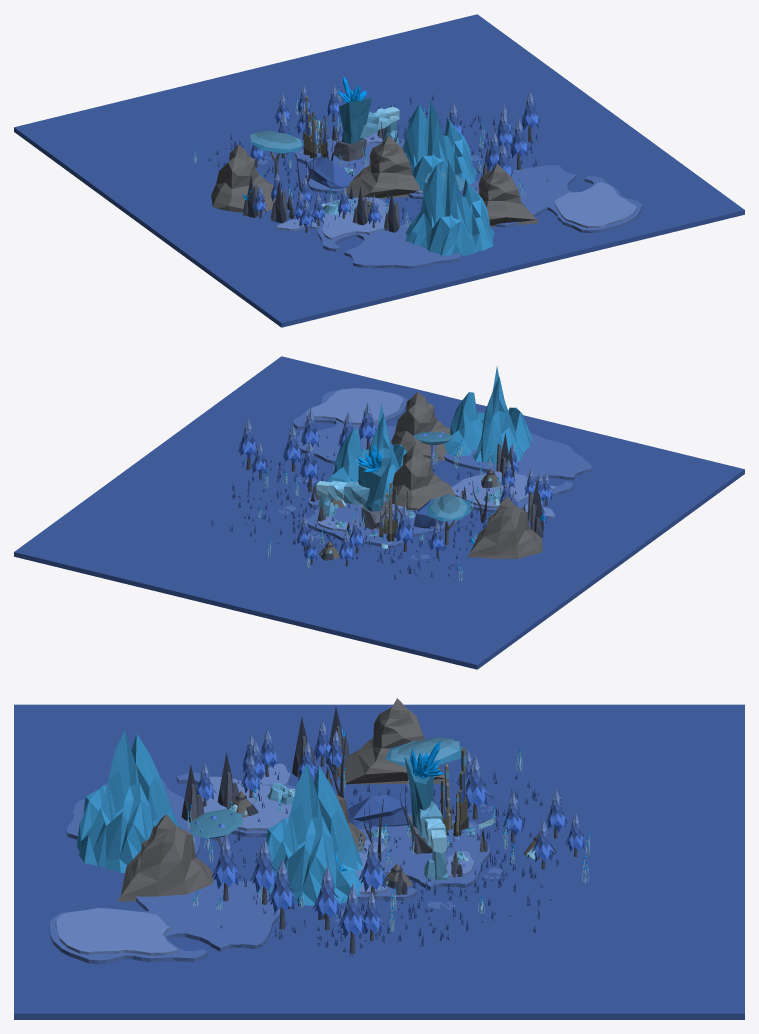
Rendered from Space_Forest.fbx.
3 renders of one model, top to bottom at view 1: azimuth 30°, elevation 25°; view 2: azimuth 150°, elevation 25°; view 3: azimuth 270°, elevation 25°, orthographic. The views are drawn at different scales.
Parts seen in each view (by area): view 1: Ground_1_9, Ground_2_1, Landscape_2_1, Tree_2_21, Ground_2_2, Landscape_2_2, Landscape_1_3, Rock_1, Landscape_1_2, Landscape_1_1, Rock_9, Ground_2 (+5 smaller); view 2: Ground_1_9, Tree_2_21, Ground_2_2, Landscape_2_1, Ground_2_1, Landscape_1_2, Rock_1, Landscape_2_2, Landscape_1_3, Landscape_1_1, Ground_2, Cloner (+3 smaller); view 3: Ground_1_9, Ground_2_1, Tree_2_21, Landscape_2_2, Landscape_2_1, Landscape_1_1, Ground_2, Landscape_1_2, Ground_2_2, Rock_1, Rock_9, Cloner (+10 smaller).
Boxes of the visible parts, x1,y1,x2,y2 form: Ground_1_9: (14,14,744,327); Ground_2_1: (463,165,642,232); Landscape_2_1: (405,160,494,255); Tree_2_21: (250,85,540,232); Ground_2_2: (310,197,461,268); Landscape_2_2: (403,99,476,194); Landscape_1_3: (346,135,420,198); Rock_1: (334,98,399,161); Landscape_1_2: (211,144,275,214); Landscape_1_1: (478,163,538,227); Rock_9: (243,125,490,232); Ground_2: (294,132,423,199); Ground_1_9: (14,356,744,669); Tree_2_21: (238,402,554,566); Ground_2_2: (444,433,591,512); Landscape_2_1: (444,366,532,463); Ground_2_1: (292,388,408,463); Landscape_1_2: (467,496,542,558); Rock_1: (316,457,391,529); Landscape_2_2: (327,403,407,498); Landscape_1_3: (392,445,455,510); Landscape_1_1: (391,391,450,460); Ground_2: (307,495,457,548); Cloner: (211,435,516,579); Ground_1_9: (14,704,744,1019); Ground_2_1: (49,878,280,964); Tree_2_21: (196,720,586,954); Landscape_2_2: (266,762,363,905); Landscape_2_1: (77,730,178,872); Landscape_1_1: (117,814,213,901); Ground_2: (355,813,490,900); Landscape_1_2: (333,698,449,784); Ground_2_2: (66,772,295,857); Rock_1: (404,756,447,880); Rock_9: (181,706,487,920); Cloner: (209,768,561,933).
Bounding box in the file's own units: 3000 × 571 × 3000.
Materials: 1 (1 with a texture image).
